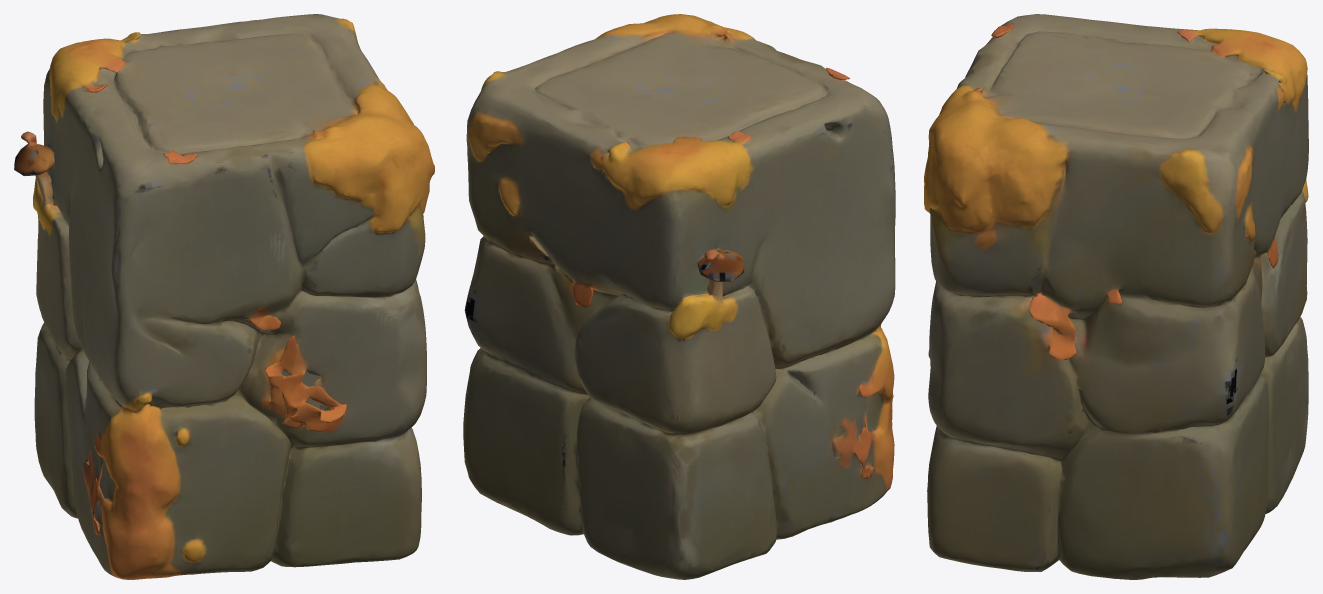
3 views of the same model, side by side, from view 1: azimuth 30°, elevation 25°; view 2: azimuth 150°, elevation 25°; view 3: azimuth 270°, elevation 25° (orthographic). The views are drawn at different scales.
Visible parts, largest first — view 1: world; view 2: world; view 3: world.
Part boxes in pixels (x1=…): world: x1=14, y1=14, x2=434, y2=579; world: x1=463, y1=14, x2=895, y2=579; world: x1=924, y1=14, x2=1308, y2=579.
Size of the model in its own units: 0.8155 by 0.9992 by 0.7942.
Materials: 1 (1 with a texture image).
